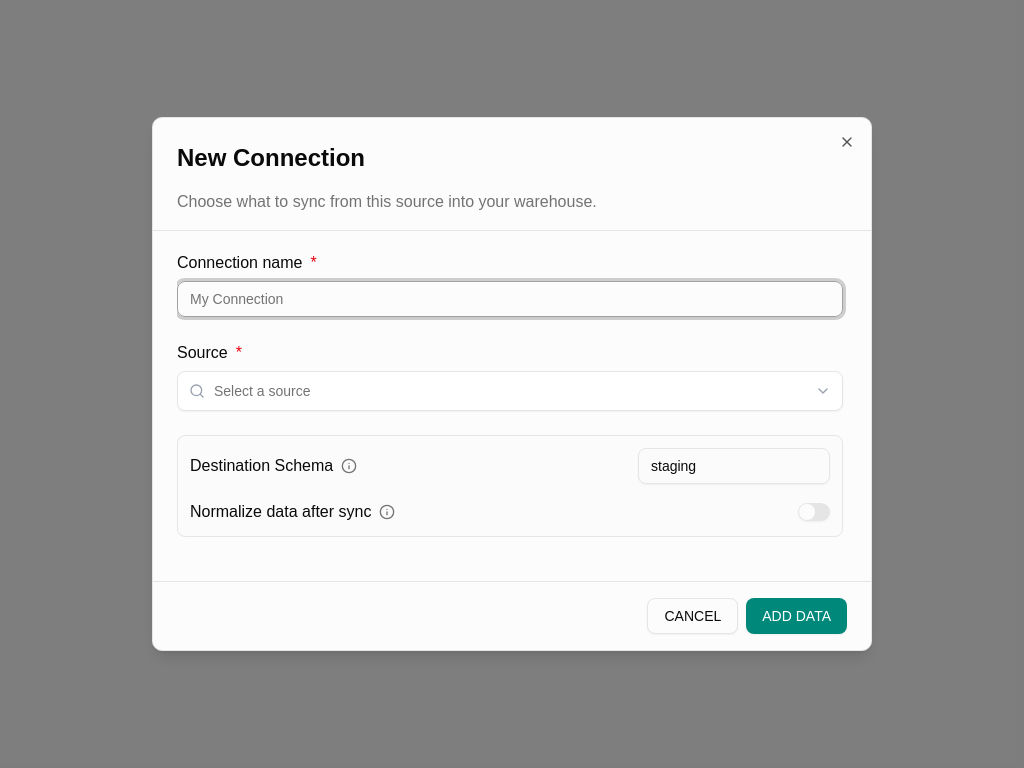
it: ConnectionForm › keeps save enabled in create mode and shows inline required errors on submit
The width and height of the screenshot is (1024, 768).
Check: the heading "New Connection" is shown, box [177, 144, 365, 171]
# Empty required fields → inline errors, and nothing is submitted.
Click the button with test id "save-connection-btn".
click(797, 616)  # box [746, 598, 847, 634]
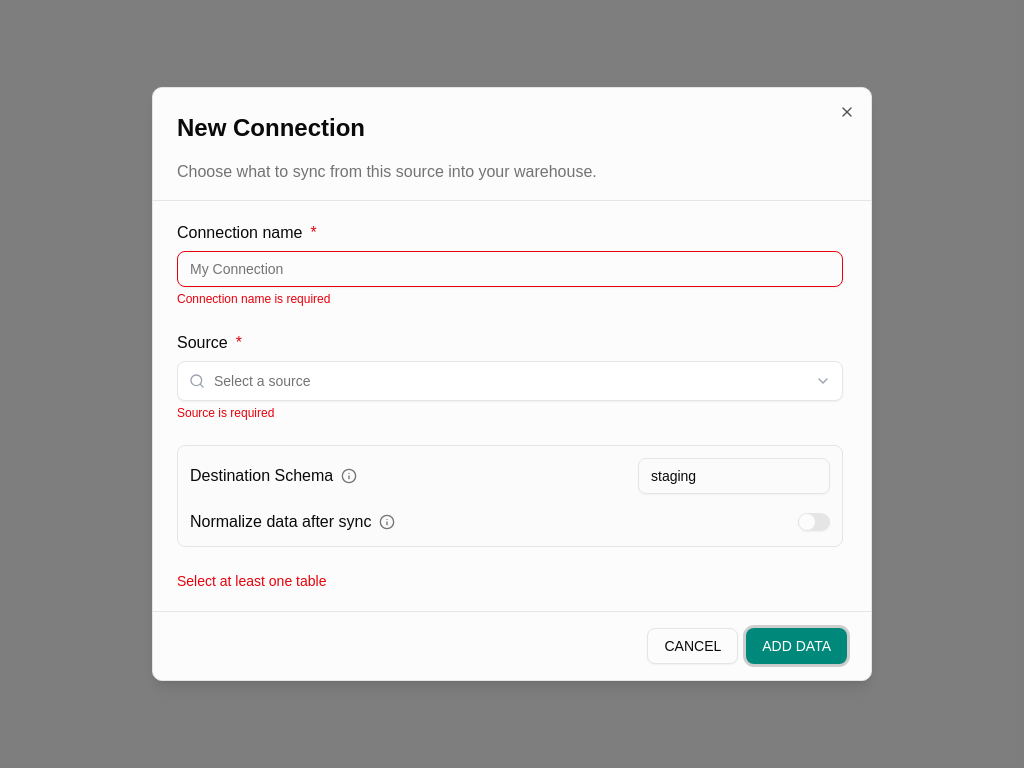
Check: the text "Connection name is required" is shown, box [177, 292, 330, 306]
Check: the text "Source is required" is shown, box [177, 406, 274, 420]
